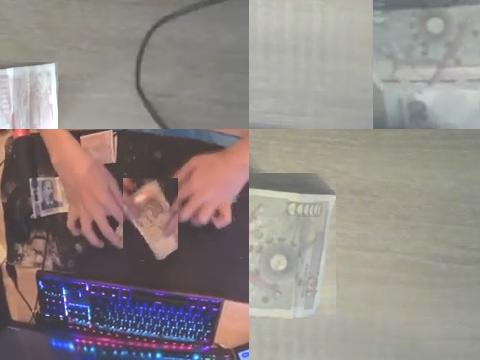10leva: (249, 183, 336, 319)
50leva: (123, 178, 178, 260)
5leva: (0, 62, 58, 129)
